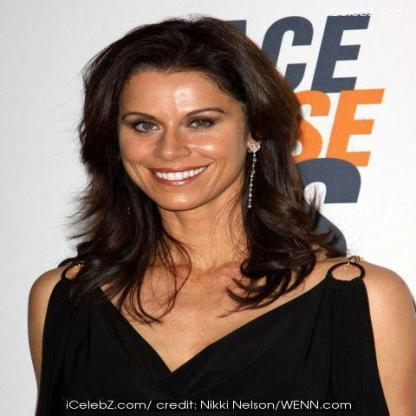long-hair: (54, 208, 355, 266)
